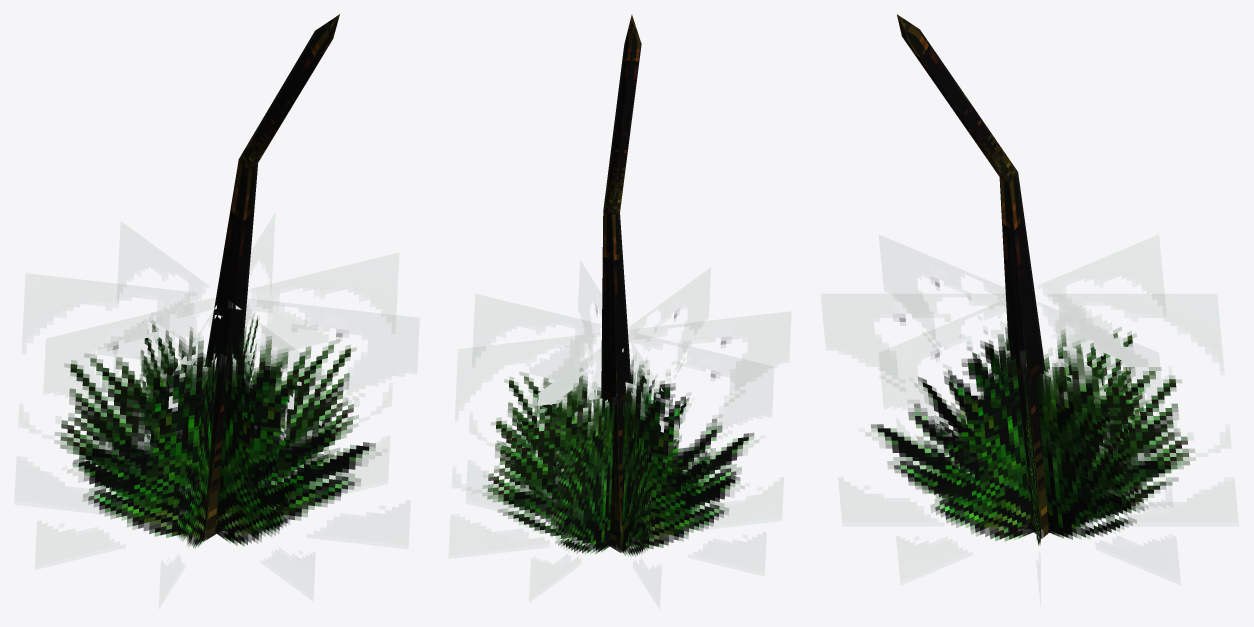
File: Environment - Debris and Ruins - Rubble Mound - Debris - PMYaka_d.glb
3 renders of one model, left to right at view 1: azimuth 30°, elevation 25°; view 2: azimuth 150°, elevation 25°; view 3: azimuth 270°, elevation 25°, orthographic. The views are drawn at different scales.
Parts seen in each view (by area): view 1: PMYAKA_D; view 2: PMYAKA_D; view 3: PMYAKA_D.
Boxes of the visible parts, box(x1,y1,x2,y2) form: PMYAKA_D: box(54, 14, 395, 548); PMYAKA_D: box(472, 14, 773, 556); PMYAKA_D: box(866, 14, 1195, 545).
Bounding box in the file's own units: 10.94 × 16.51 × 11.56.
1 material, 1 textured.
